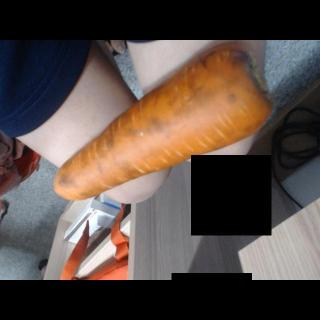carrot: (53, 42, 275, 202)
